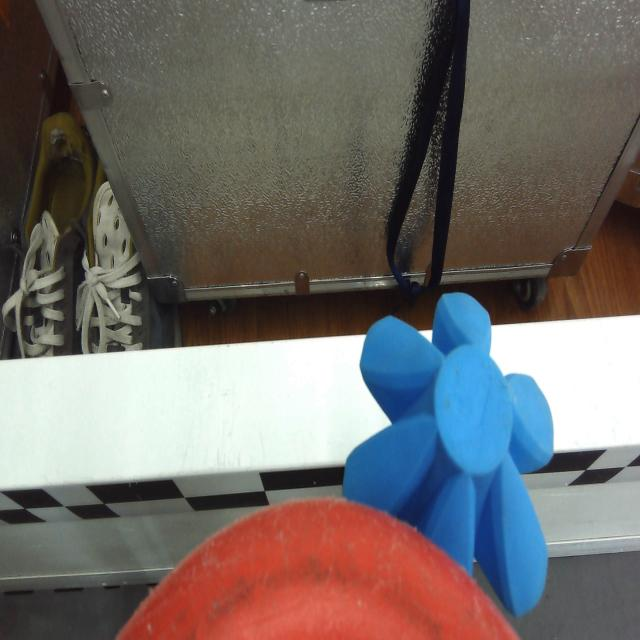zblue-Stake-Head: (346, 290, 555, 620)
